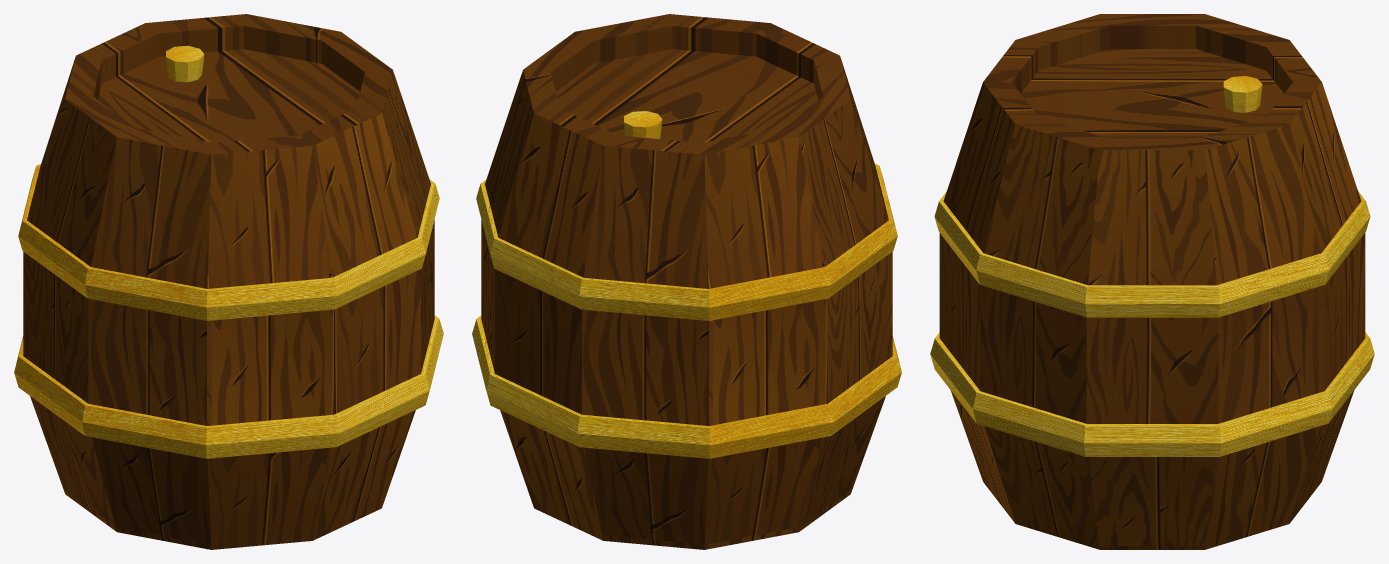
File: Barrel.fbx
3 renders of one model, left to right at view 1: azimuth 30°, elevation 25°; view 2: azimuth 150°, elevation 25°; view 3: azimuth 270°, elevation 25°, orthographic.
Parts seen in each view (by area): view 1: Cylindre.001, Torus.001, Torus; view 2: Cylindre.001, Torus.001, Torus; view 3: Cylindre.001, Torus.001, Torus.
Boxes of the visible parts, x1,y1,x2,y2 form: Cylindre.001: [23, 14, 434, 549]; Torus.001: [14, 315, 443, 458]; Torus: [18, 164, 439, 320]; Cylindre.001: [481, 14, 892, 549]; Torus.001: [472, 315, 901, 458]; Torus: [476, 164, 897, 320]; Cylindre.001: [939, 14, 1365, 549]; Torus.001: [930, 332, 1374, 456]; Torus: [934, 191, 1370, 317].
Size of the model in its own units: 189 by 197 by 199.
Materials: 2 (2 with a texture image).
